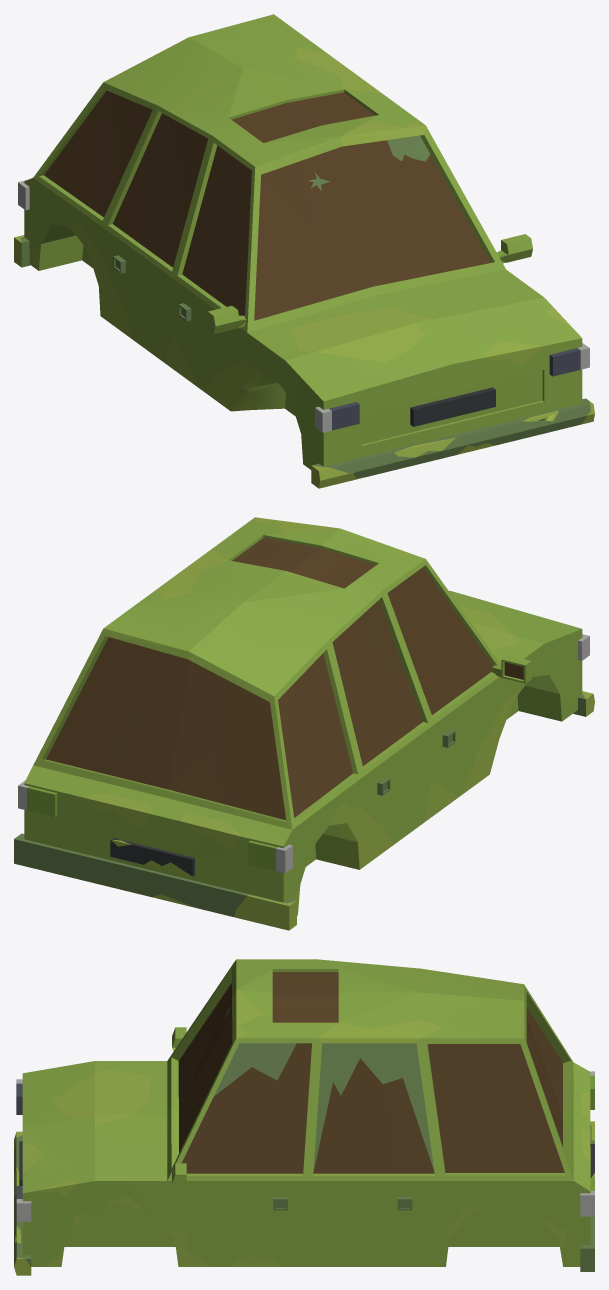
The model's file is OldCar_06.fbx.
3 renders of one model, top to bottom at view 1: azimuth 30°, elevation 25°; view 2: azimuth 150°, elevation 25°; view 3: azimuth 270°, elevation 25°, orthographic. The views are drawn at different scales.
Parts seen in each view (by area): view 1: OldCar_06; view 2: OldCar_06; view 3: OldCar_06.
Boxes of the visible parts, x1=… form: OldCar_06: x1=14, y1=14, x2=594, y2=488; OldCar_06: x1=14, y1=517, x2=594, y2=930; OldCar_06: x1=14, y1=959, x2=594, y2=1275.
Size of the model in its own units: 1.98 by 1.39 by 3.3.
